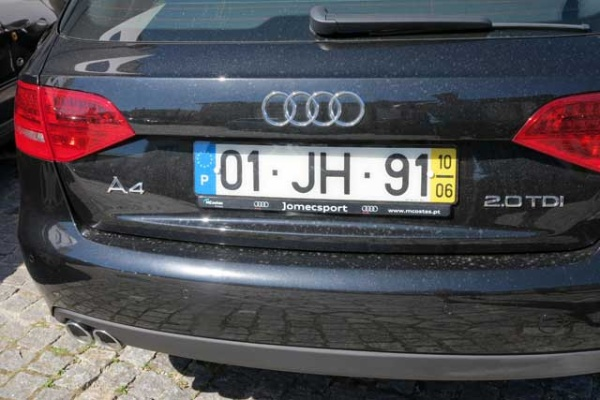licence: (186, 135, 462, 208)
